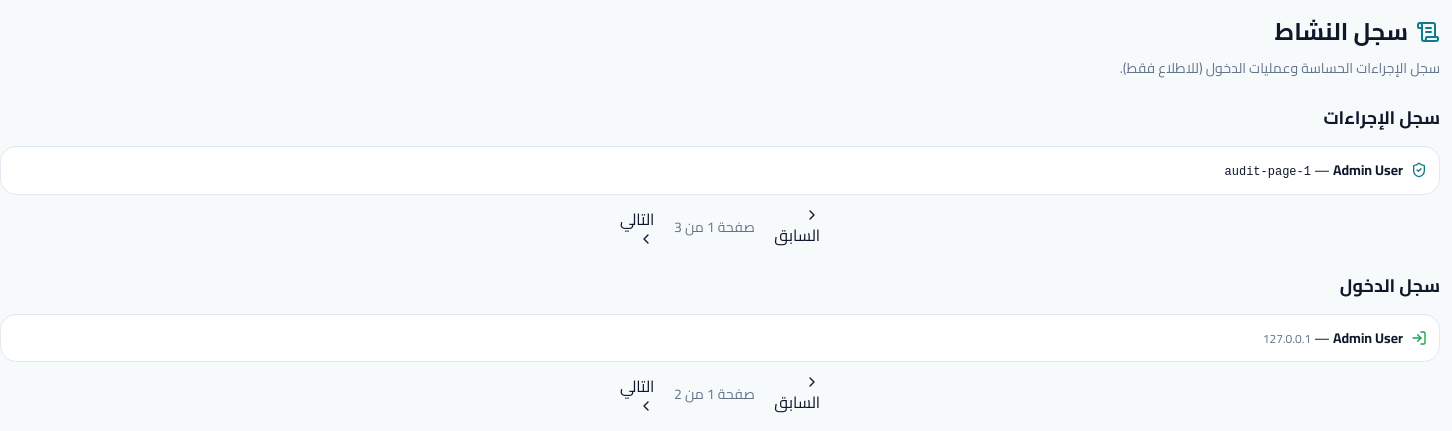
Test case: AdminActivity › requests independent server pages for audit entries and login history
The width and height of the screenshot is (1452, 431).
Expected: the element "سجل الإجراءات" is shown, [0,103,1440,247]
Expected: the element "سجل الدخول" is shown, [0,271,1440,414]
Click the 1st button "التالي" at [637, 227], box [620,207,654,247]
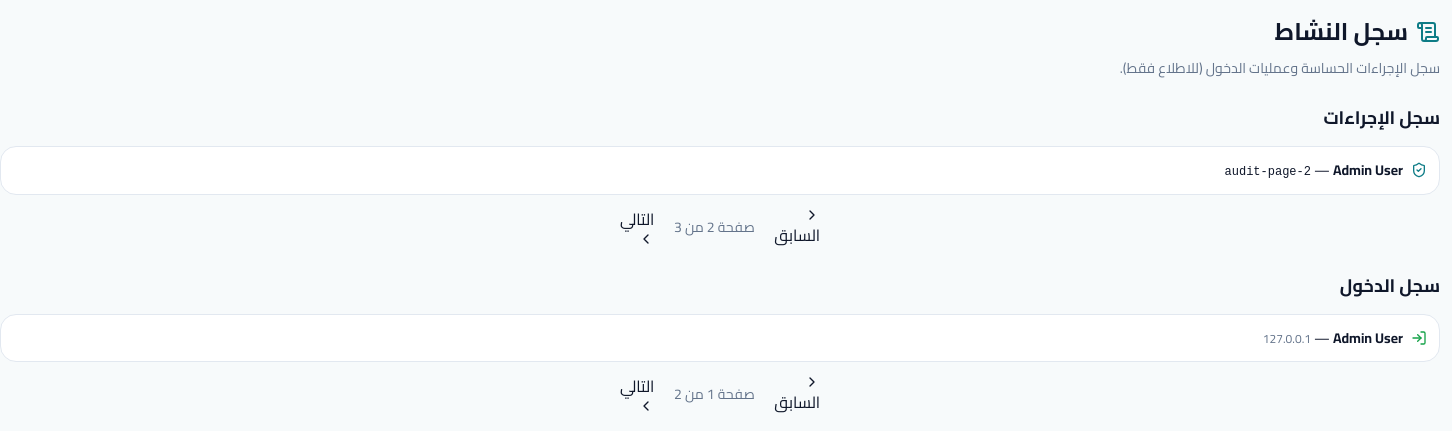
Now the text "صفحة 2 من 3" is shown, box [674,214,755,240]
Click the 2nd button "التالي" at [637, 394], box [620,374,654,414]
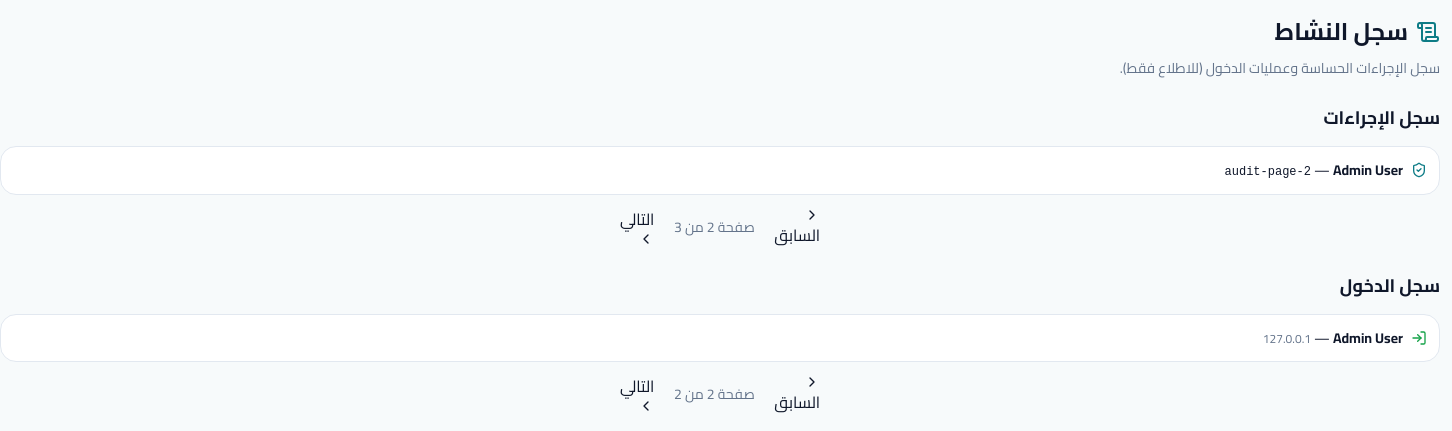
Now the text "صفحة 2 من 2" is shown, box [674,381,755,407]
